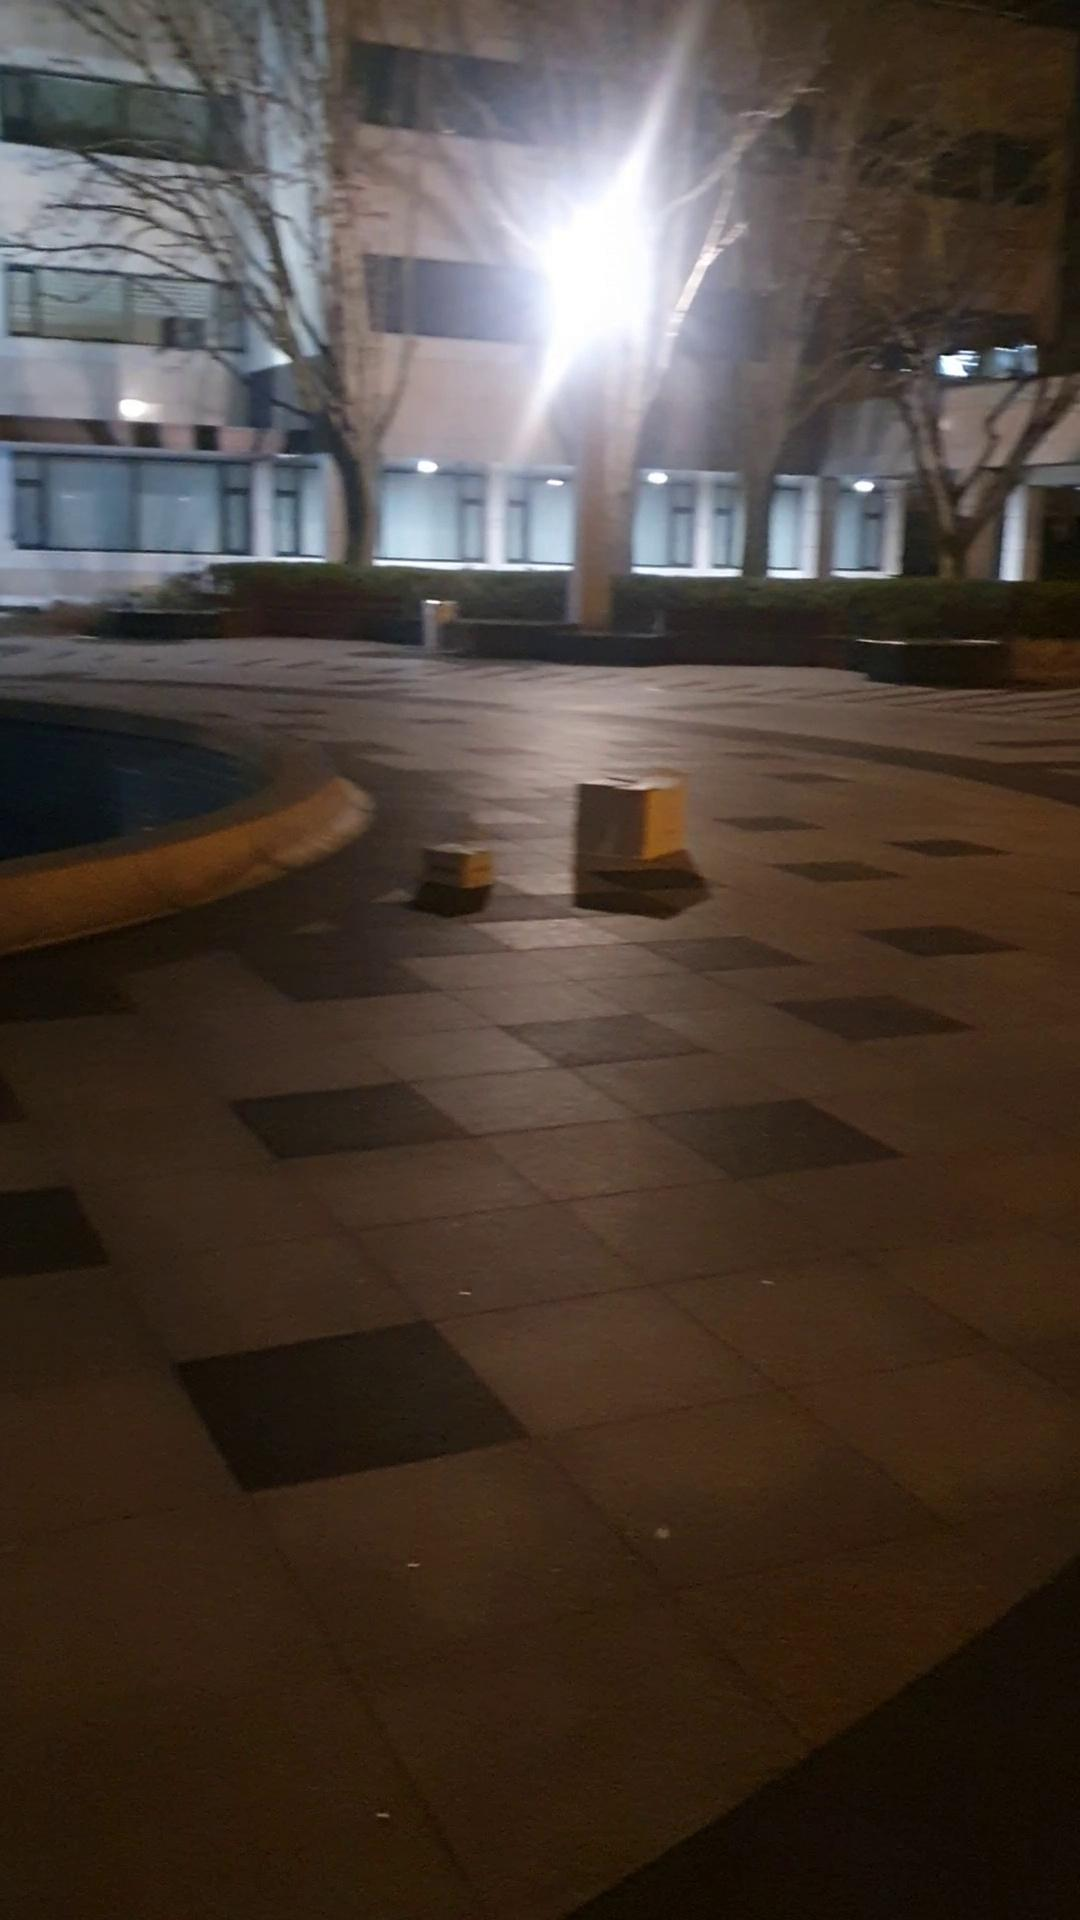Box: (566, 765, 698, 877), (407, 833, 500, 895)
